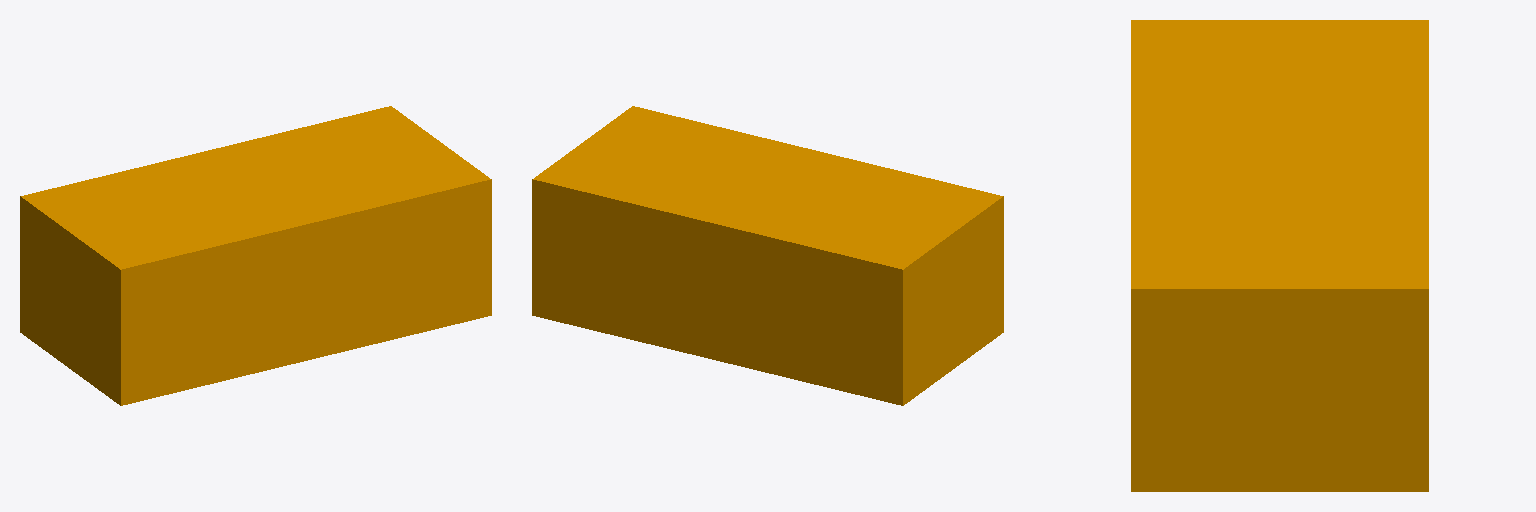
The robot description file, URDF, robot "push_block":
<robot name="push_block">
  <link name="push_block">
    <inertial>
      <origin xyz="0.064 0.03 0.0275" />
      <mass value="0.7" />
      <!-- (1/12)*mass*(h^2 + d^2)  (1/12)*mass*(w^2 + d^2) (1/12)*mass*(w^2 + h^2) -->
      <!-- (1/12)*0.5*(0.045^2 + 0.045^2)  (1/12)*0.5*(0.045^2 + 0.045^2) (1/12)*0.5*(0.045^2 + 0.045^2) -->
      <!--inertia  ixx="0.00016874999" ixy="0.0"  ixz="0.0"  iyy="0.00016874999"  iyz="0.0"  izz="0.00016874999" /-->
      <inertia  ixx="0.001" ixy="0.0"  ixz="0.0"  iyy="0.001"  iyz="0.0"  izz="0.001" />

    </inertial>
    <visual>
      <origin xyz="0.064 0.03 0.0275"/>
      <geometry>
        <box size="0.128 0.06 0.045" />
      </geometry>
    </visual>
    <collision>
      <origin xyz="0.064 0.03 0.0275"/>
      <geometry>
        <box size="0.128 0.06 0.045" />
      </geometry>
    </collision>
  </link>
  <gazebo reference="push_block">
    <material>Gazebo/Yellow</material>
     <mu1>1000000000</mu1>
     <mu2>1000000000</mu2>
  </gazebo>
</robot>

--- Render facts (derived) ---
3 views of the same robot in one strip: view 1: azimuth 30°, elevation 25°; view 2: azimuth 150°, elevation 25°; view 3: azimuth 270°, elevation 25° (orthographic).
Robot: push_block — 1 links, 0 joints (none); root link push_block; default pose: all joints at 0.
Visible links, largest first — view 1: push_block; view 2: push_block; view 3: push_block.
Boxes of the visible links, bbox=[...] form: push_block: bbox=[20, 106, 491, 405]; push_block: bbox=[532, 106, 1003, 405]; push_block: bbox=[1131, 20, 1428, 491].
Bounding box of the posed robot: 0.128 × 0.06 × 0.045 m (x, y, z).
Geometry: primitives only (box / cylinder / sphere), no mesh files.